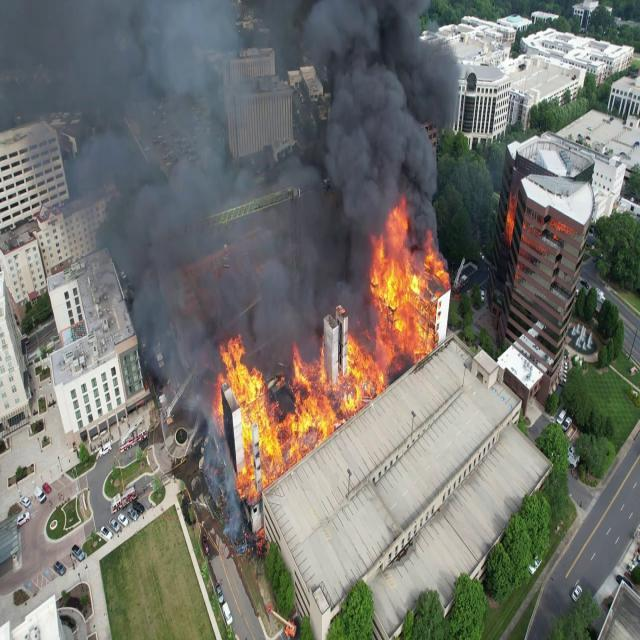Fire: (216, 322, 380, 482), (367, 210, 448, 368)
Smoke: (23, 0, 463, 372)
